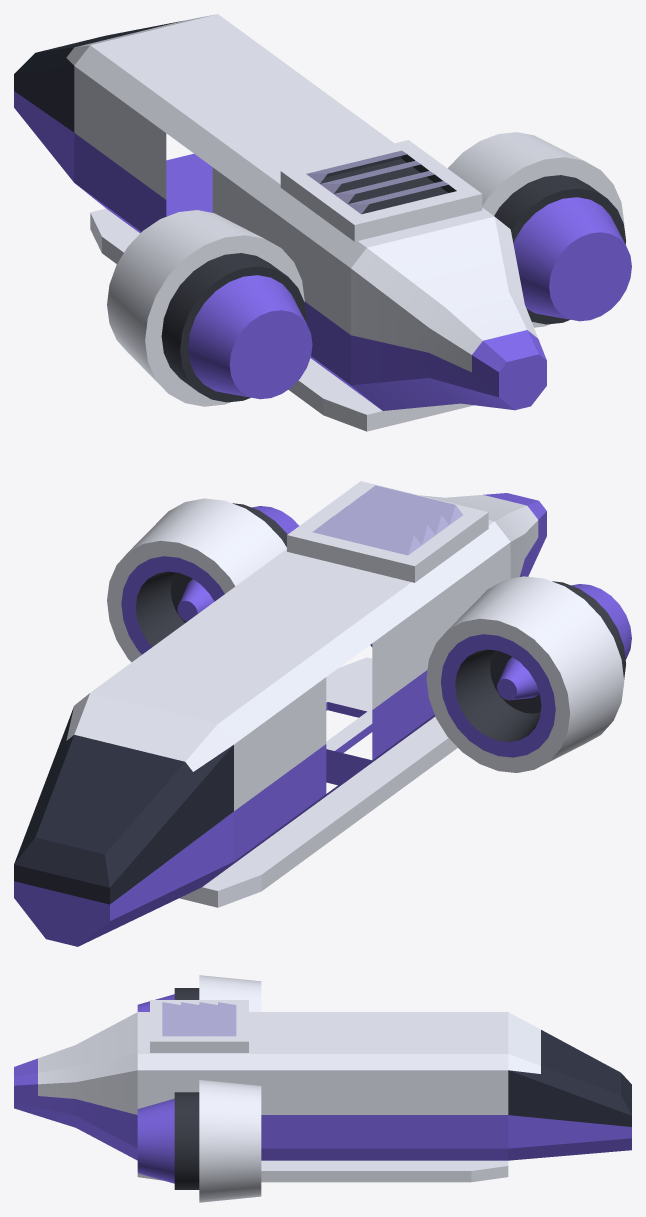
Rendered from mantis_imp.glb.
3 views of the same model, one above another, from view 1: azimuth 30°, elevation 25°; view 2: azimuth 150°, elevation 25°; view 3: azimuth 270°, elevation 25° (orthographic). The views are drawn at different scales.
Visible parts, largest first — view 1: mergedBlocks(Clone); view 2: mergedBlocks(Clone); view 3: mergedBlocks(Clone).
Boxes of the visible parts, left/top/right/bottom form: mergedBlocks(Clone): left=14, top=14, right=631, bottom=431; mergedBlocks(Clone): left=14, top=481, right=631, bottom=946; mergedBlocks(Clone): left=14, top=975, right=631, bottom=1202.
Size of the model in its own units: 3 by 1.25 by 5.
